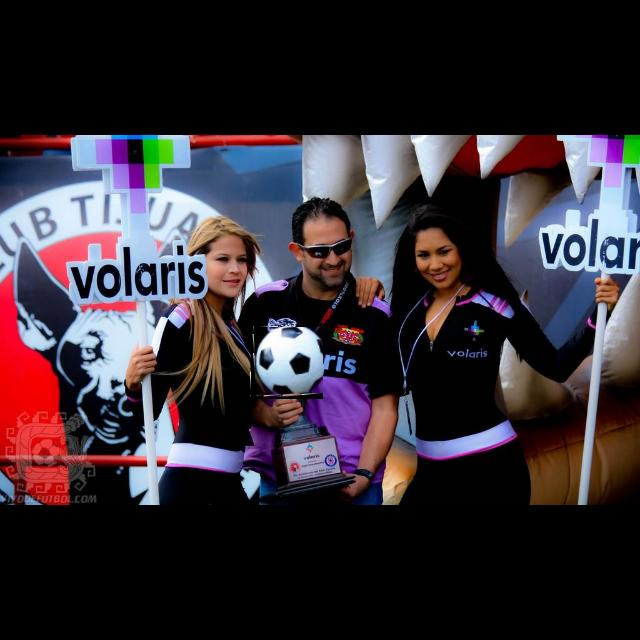Football: (251, 327, 323, 399)
